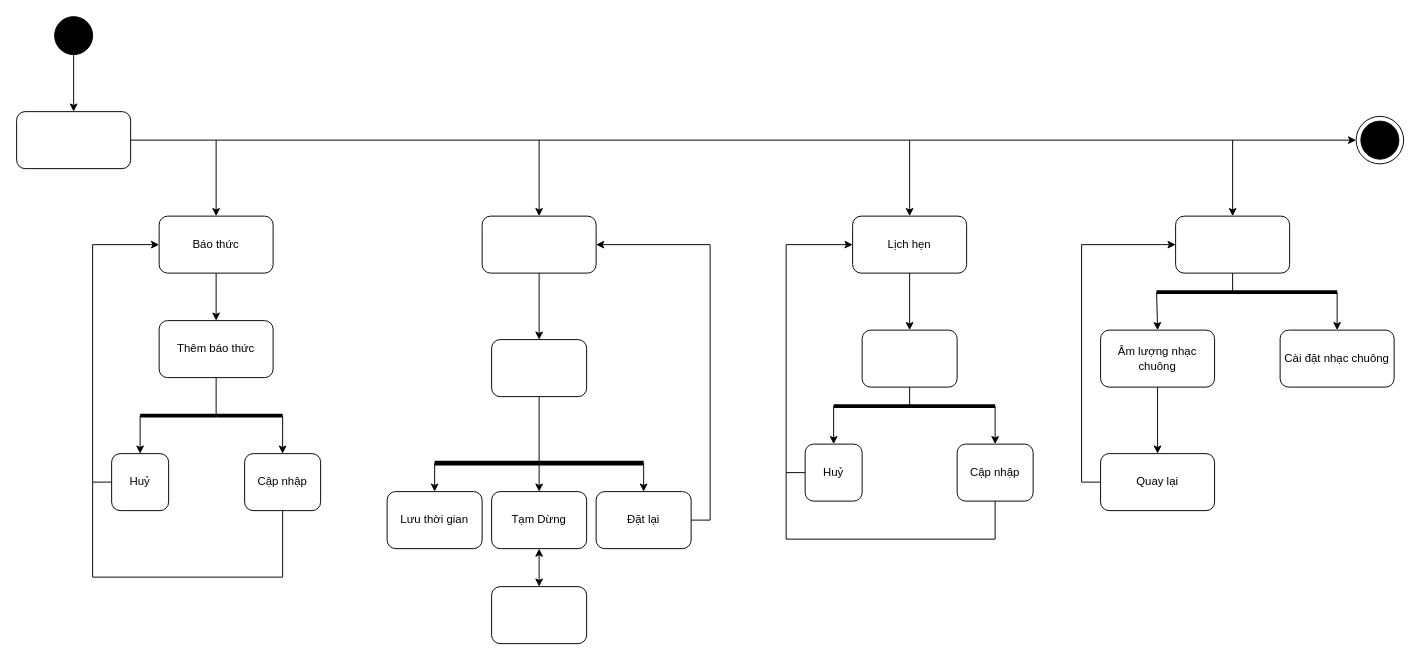
This 1420x660 diagram has some shape labels left out. Each missing label, with the centre of its shape:
"Bấm giờ" goes at (538,244).
"Bắt đầu" goes at (539,368).
"Cài đặt" goes at (1232,244).
"Màn hình chính (Có ảnh)" goes at (73,140).
"Thêm lịch hẹn" goes at (909,358).
"Tiếp tục" goes at (539,615).
